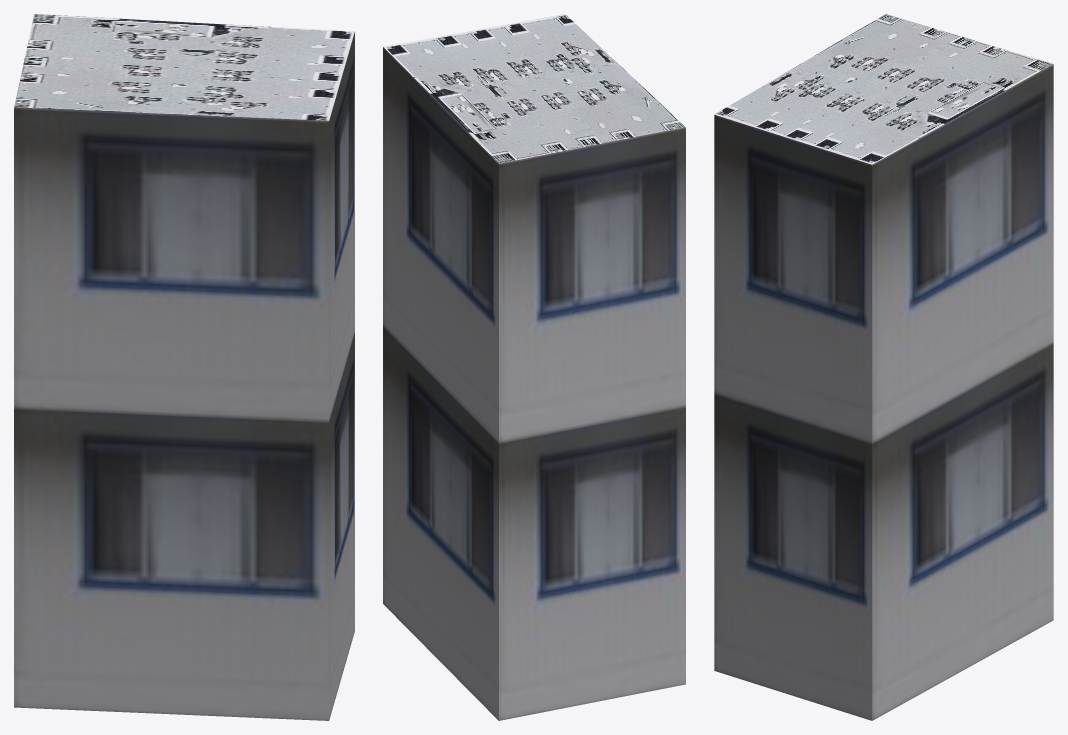
The model's file is ResTex__5076.fbx.
3 views of the same model, side by side, from view 1: azimuth 30°, elevation 25°; view 2: azimuth 150°, elevation 25°; view 3: azimuth 270°, elevation 25° (orthographic). The views are drawn at different scales.
Parts seen in each view (by area): view 1: CityEngineMaterial_9_m, CityEngineMaterial_4_m; view 2: CityEngineMaterial_9_m, CityEngineMaterial_4_m; view 3: CityEngineMaterial_9_m, CityEngineMaterial_4_m.
Part boxes in pixels (x1,y1,x2,y2): CityEngineMaterial_9_m: (14,32,354,720); CityEngineMaterial_4_m: (14,14,354,120); CityEngineMaterial_9_m: (383,47,685,720); CityEngineMaterial_4_m: (383,14,685,163); CityEngineMaterial_9_m: (714,64,1053,720); CityEngineMaterial_4_m: (714,14,1053,164).
Size of the model in its own units: 3.49 by 6 by 3.32.
2 materials, 2 textured.
